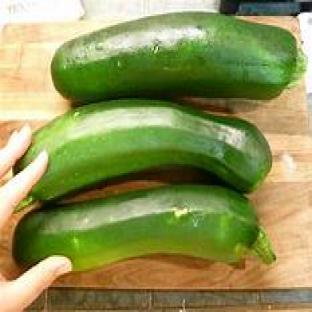Zucchini: (15, 100, 271, 206), (51, 13, 303, 101), (14, 186, 274, 270)
